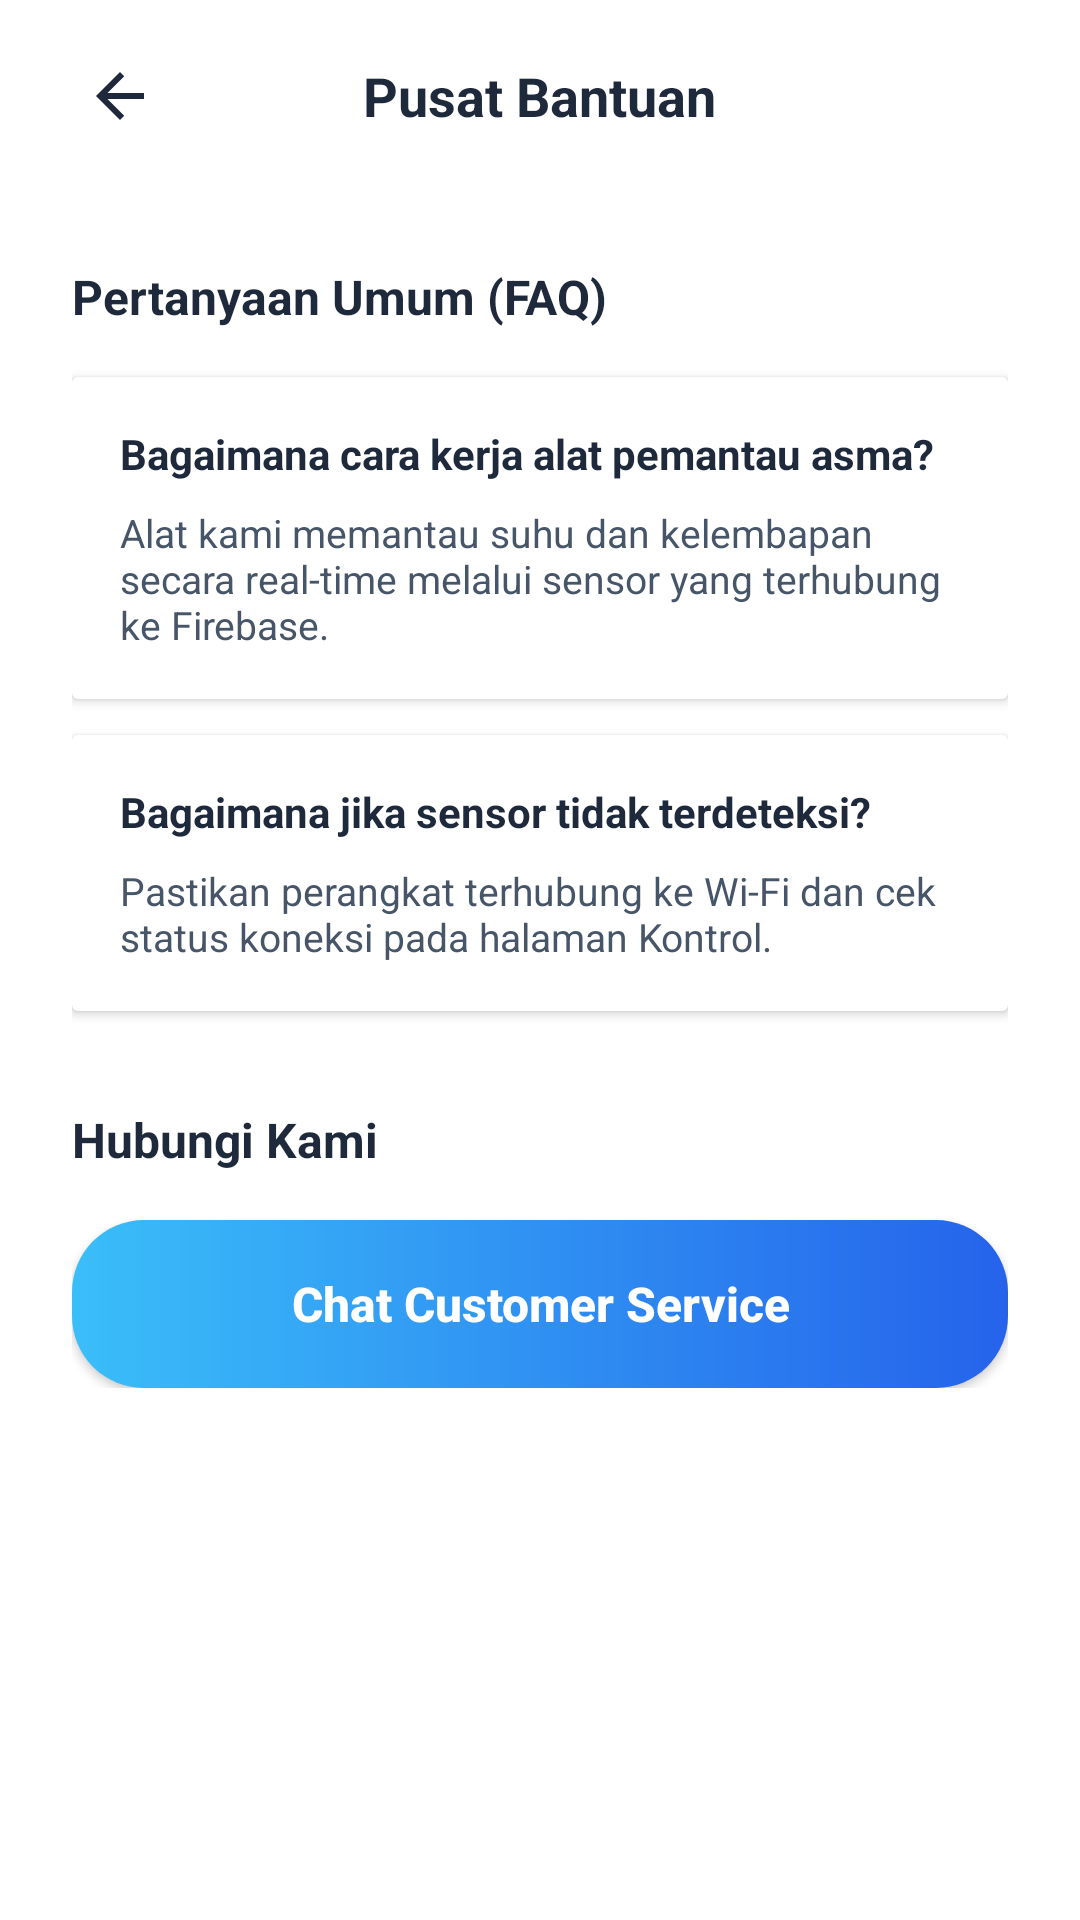

Screen size 1080×1920. Icon name, then its box in pixels as (x1, y1, x2, y2):
back: (96, 72, 144, 120)
